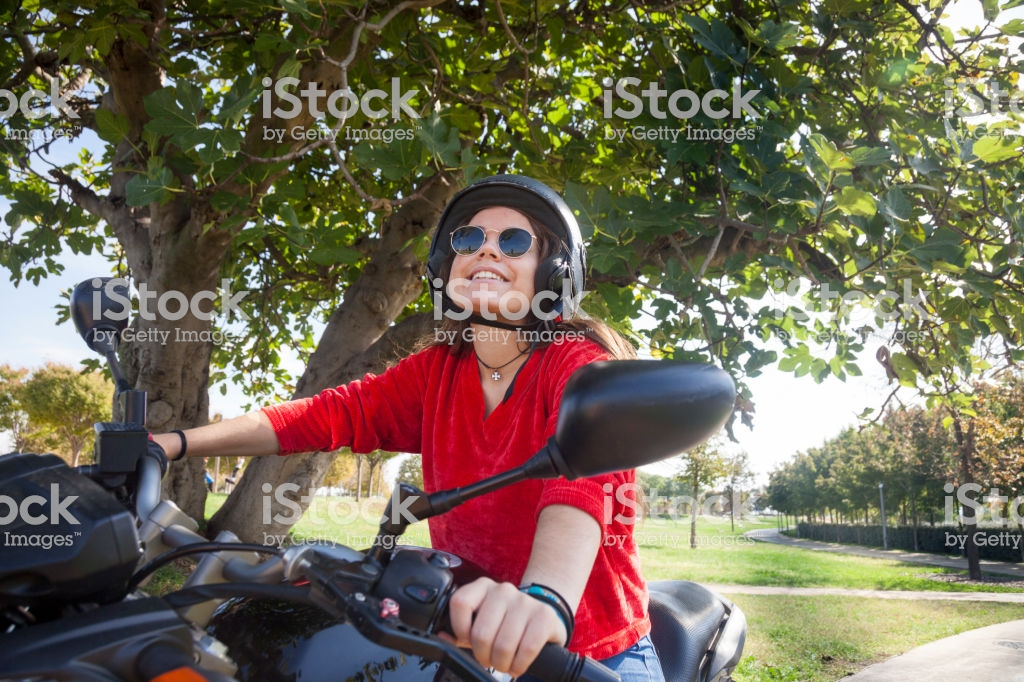helmet: (421, 175, 617, 332)
